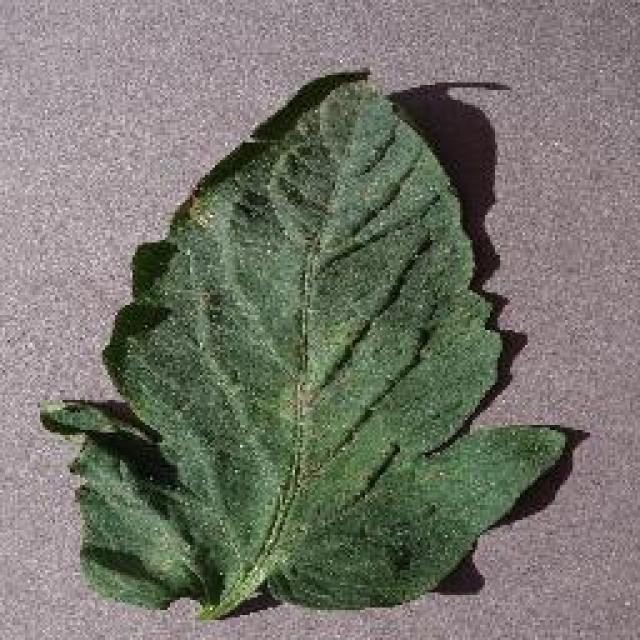Tomato___Target_Spot: (40, 72, 568, 618)
